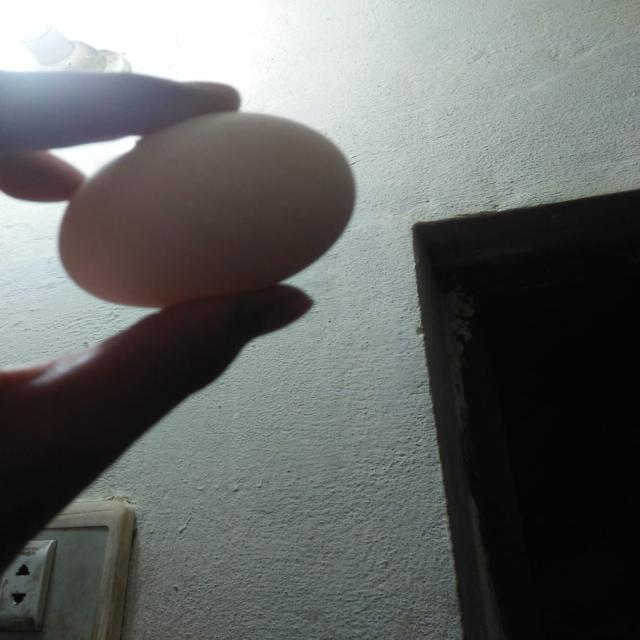Egg: (29, 100, 380, 319)
